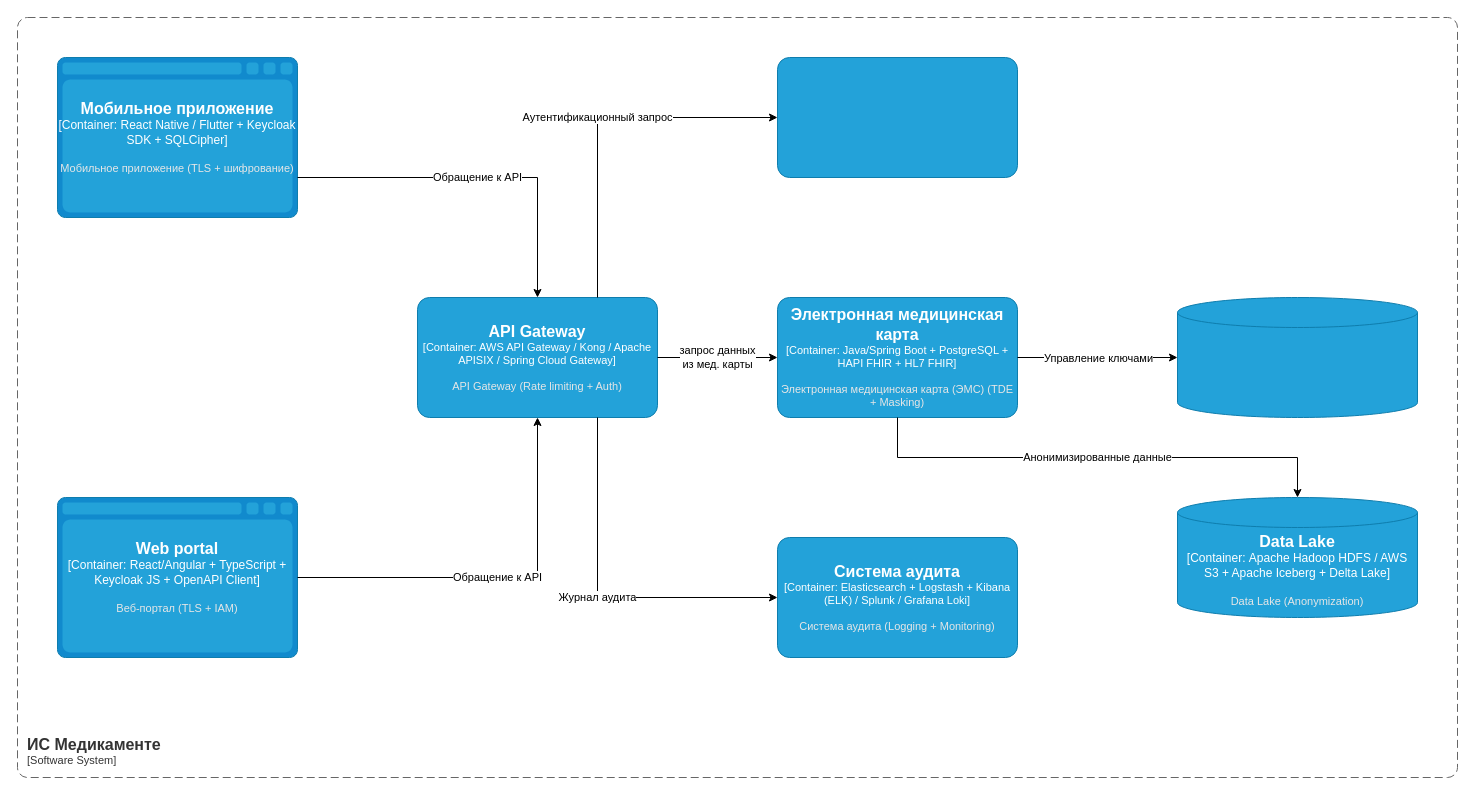
Some shapes in this 1475 by 795 pixel diagram are drawn without their labels. The shapes that lost their labels are listed below. From the top down, each one's centre as x and y in pixels, then its label:
point (897, 117): Keycloak IAM [Container: Keycloak] Keycloak IAM (RBAC + MFA)
point (1297, 357): Hashicorp Vault [Container: Hashicorp Vault] Hashicorp Vault (Key management)
